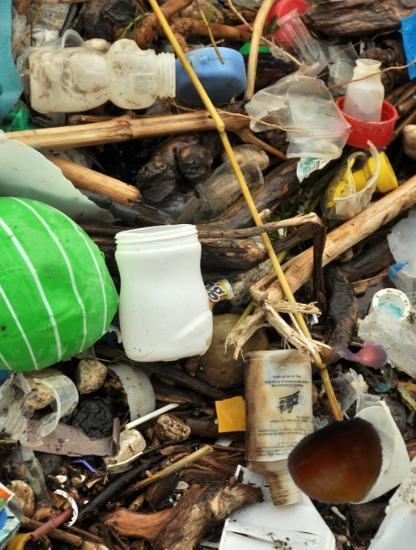Banana: (336, 326, 390, 380)
Nut: (291, 417, 389, 515)
